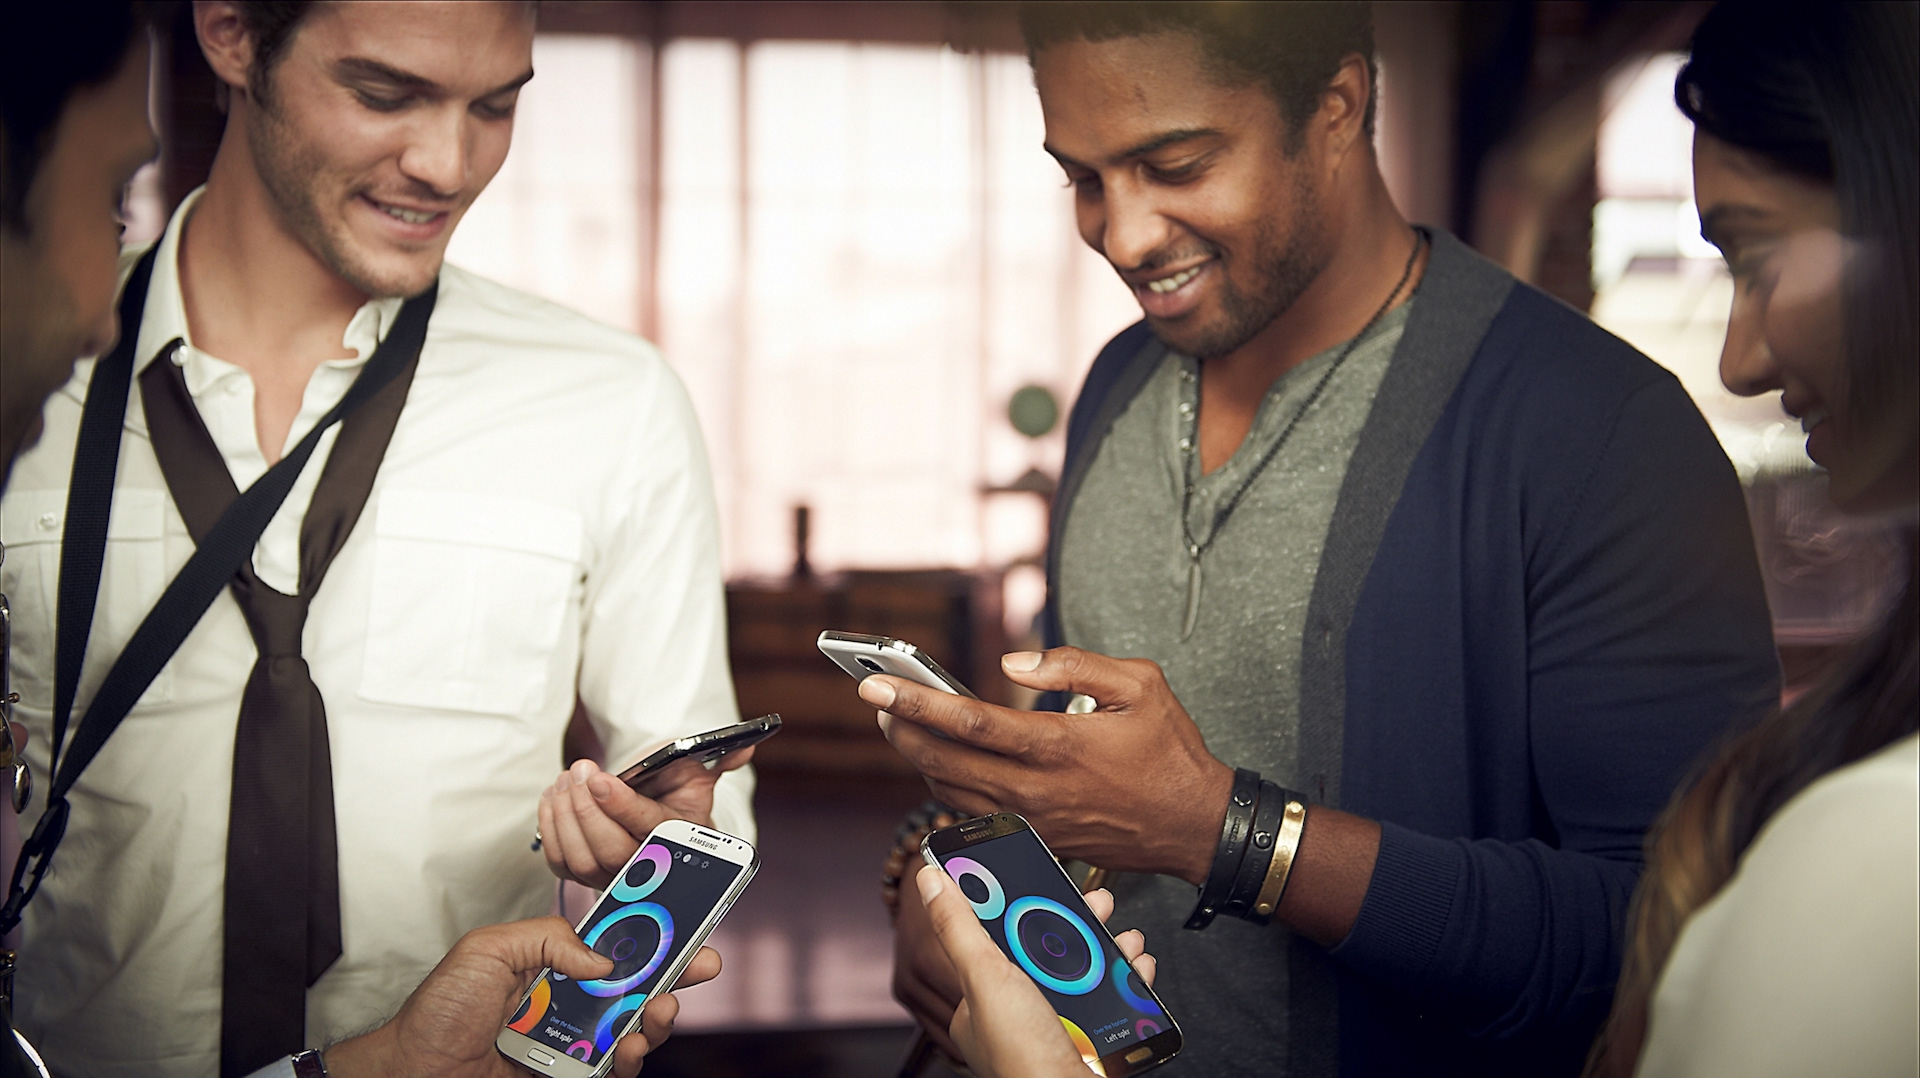smartphone: (918, 810, 1185, 1078), (495, 817, 764, 1078), (531, 711, 785, 850), (816, 628, 1010, 761)
